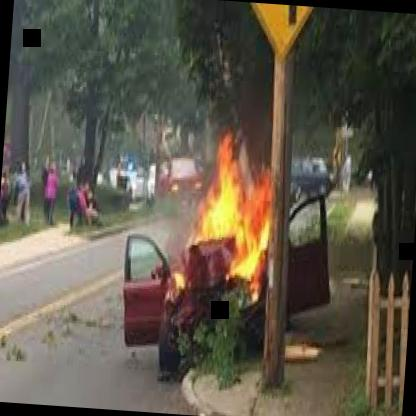fire: (142, 128, 282, 365)
